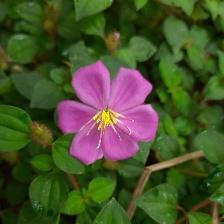malabar melastome: (58, 59, 162, 168)
